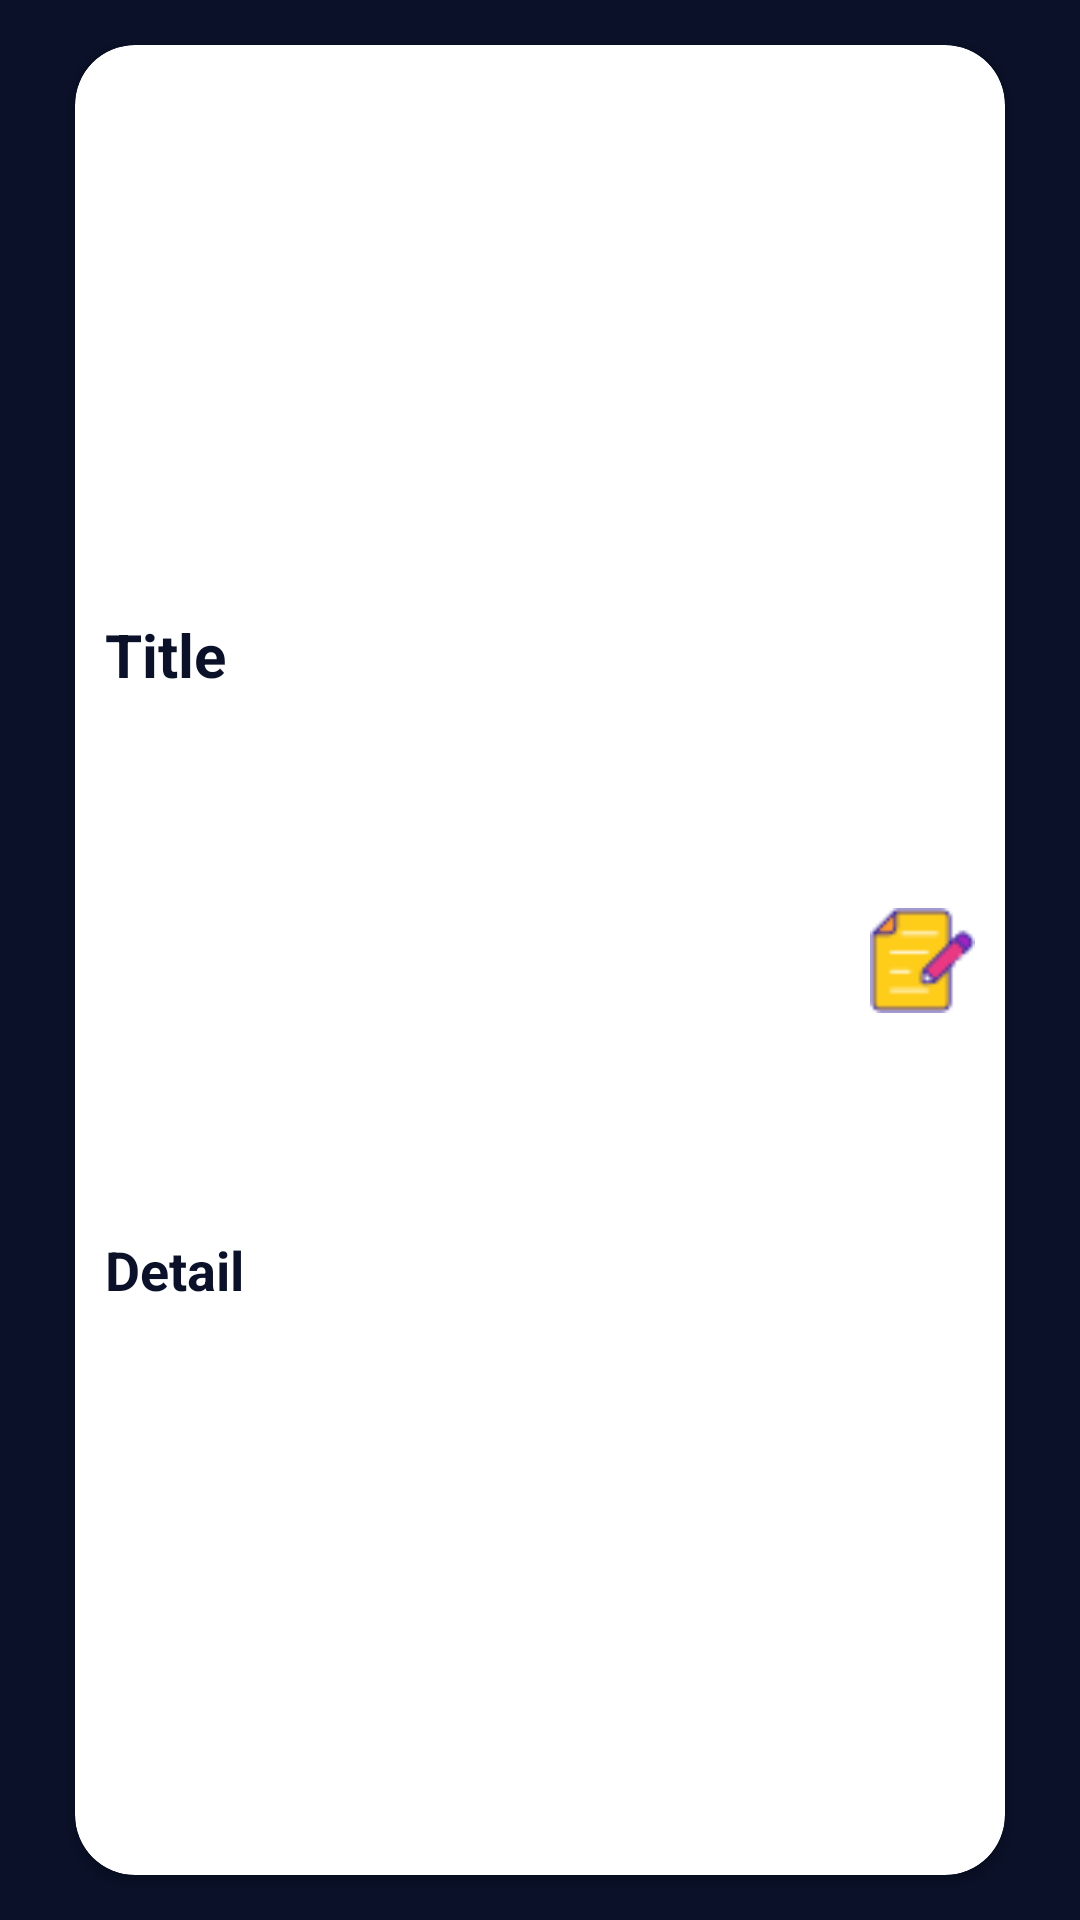

Icons on this 1080w x 1920h Android screen, each with its box as (x1, y1, x2, y2):
edit: (870, 908, 975, 1013)
